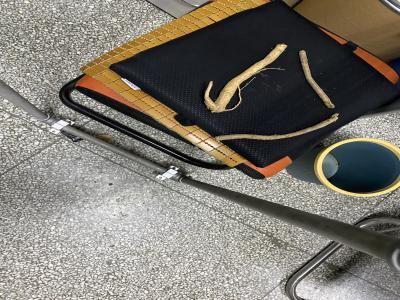Root: (204, 44, 287, 112), (215, 113, 338, 141), (299, 50, 335, 108)
